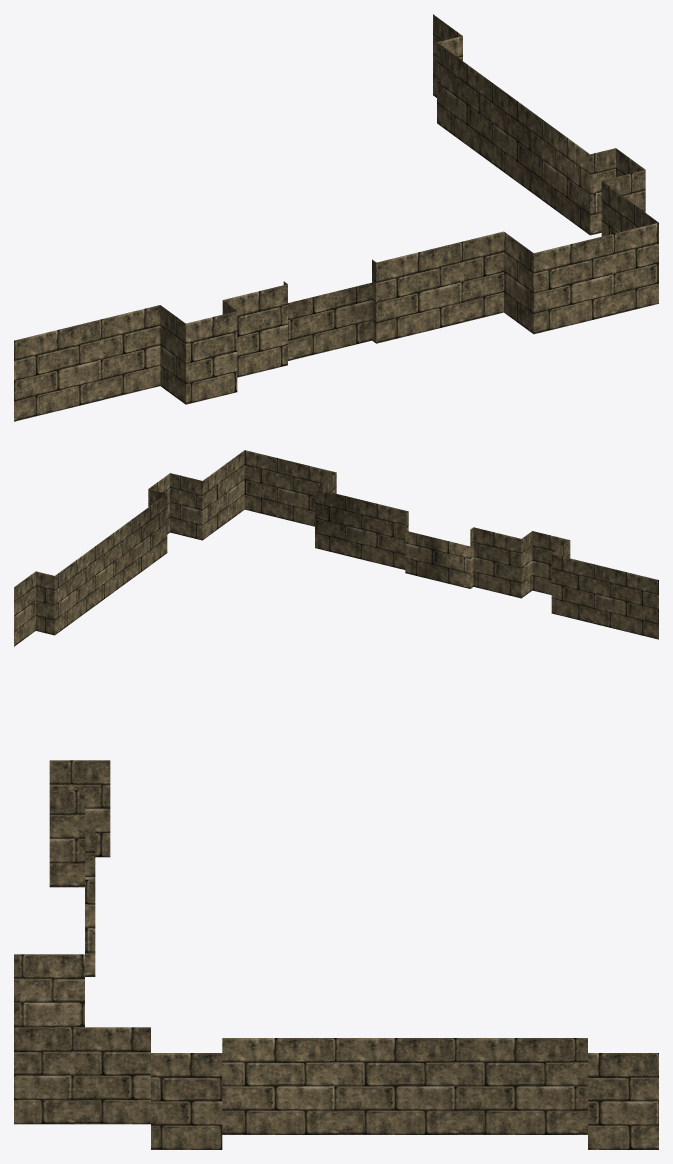
File: OVERHILL_A_01_LINE144.fbx
The picture shows the model from 3 angles, top to bottom: view 1: azimuth 30°, elevation 25°; view 2: azimuth 150°, elevation 25°; view 3: azimuth 270°, elevation 25°; orthographic projection. The views are drawn at different scales.
Visible parts, largest first — view 1: OVERHILL_A_01_LINE144; view 2: OVERHILL_A_01_LINE144; view 3: OVERHILL_A_01_LINE144.
Boxes of the visible parts, box(x1,y1,x2,y2) form: OVERHILL_A_01_LINE144: box(14, 14, 658, 421); OVERHILL_A_01_LINE144: box(14, 450, 658, 646); OVERHILL_A_01_LINE144: box(14, 760, 658, 1149).
Bounding box in the file's own units: 176129 × 21050 × 127003.
Materials: 1 (1 with a texture image).
